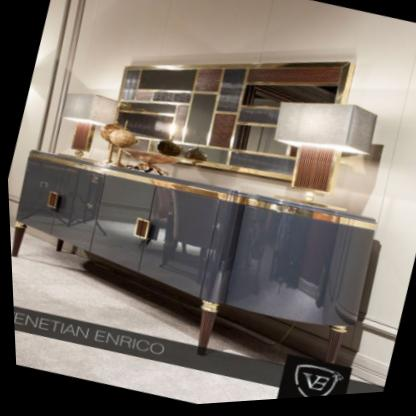Sofa: (12, 151, 381, 379)
